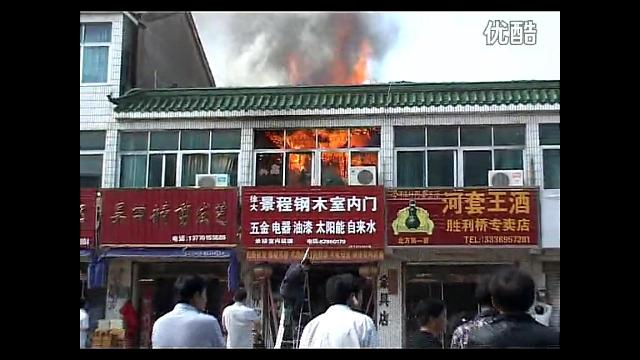fire: (317, 127, 348, 147), (286, 129, 314, 147), (352, 56, 368, 84), (288, 152, 308, 172), (350, 151, 378, 165), (350, 128, 370, 146), (267, 131, 283, 147), (338, 152, 346, 182), (322, 152, 338, 164)
